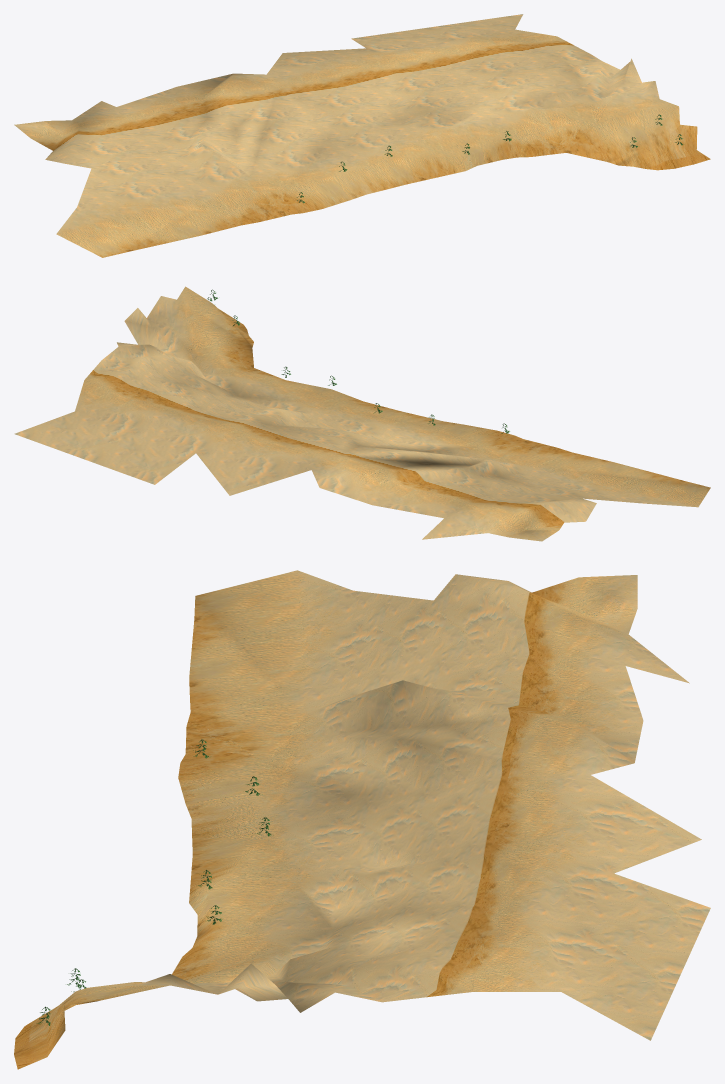
File: snow_island_13_c.fbx
3 renders of one model, top to bottom at view 1: azimuth 30°, elevation 25°; view 2: azimuth 150°, elevation 25°; view 3: azimuth 270°, elevation 25°, orthographic. The views are drawn at different scales.
Parts seen in each view (by area): view 1: snow_island_13_c; view 2: snow_island_13_c; view 3: snow_island_13_c.
Part boxes in pixels (box(x1,y1,x2,y2)): snow_island_13_c: box(14, 14, 710, 257); snow_island_13_c: box(14, 286, 710, 541); snow_island_13_c: box(14, 570, 710, 1069).
Size of the model in its own units: 2.77 by 0.2673 by 1.67.
